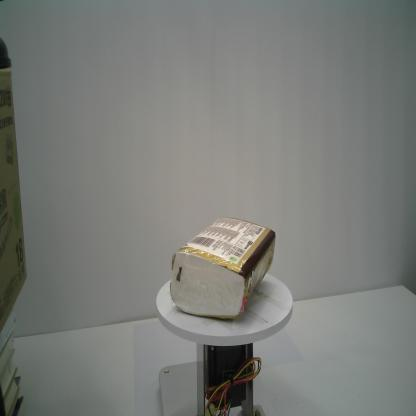Tissue: (170, 217, 276, 321)
